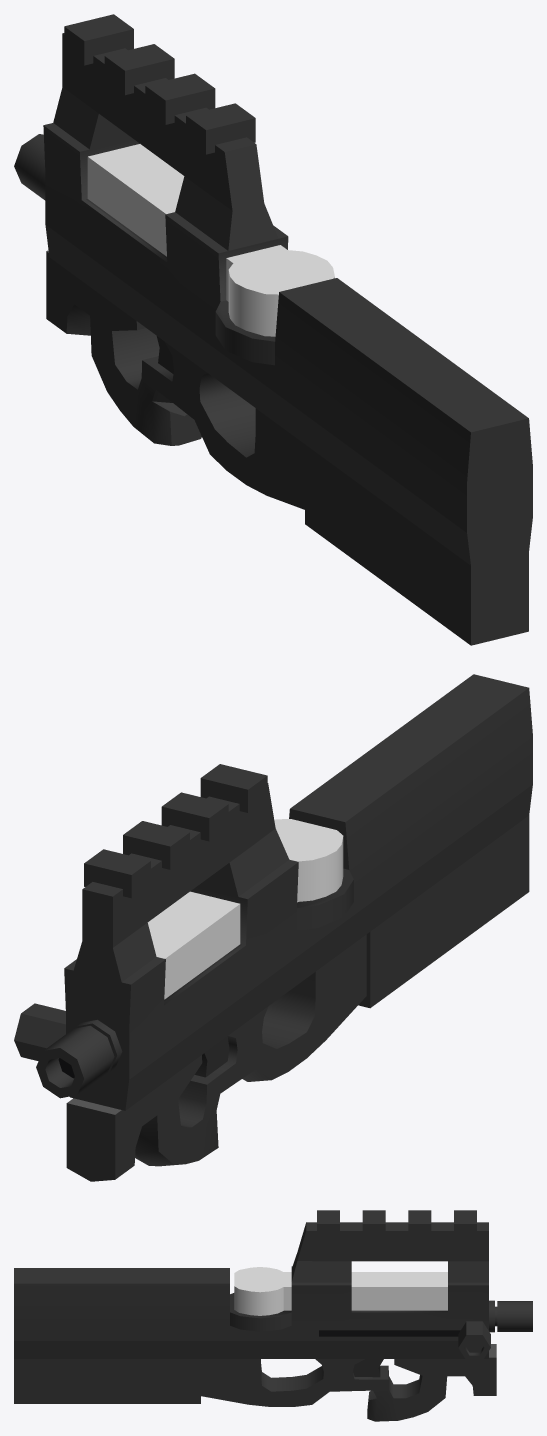
3 views of the same model, one above another, from view 1: azimuth 30°, elevation 25°; view 2: azimuth 150°, elevation 25°; view 3: azimuth 270°, elevation 25° (orthographic). The views are drawn at different scales.
Parts seen in each view (by area): view 1: M90, M90Magazine; view 2: M90, M90Magazine; view 3: M90, M90Magazine.
Boxes of the visible parts, x1,y1,x2,y2 form: M90: (14, 14, 532, 645); M90Magazine: (87, 144, 334, 336); M90: (14, 674, 532, 1181); M90Magazine: (147, 819, 343, 999); M90: (14, 1210, 532, 1421); M90Magazine: (234, 1267, 447, 1315).
Bounding box in the file's own units: 0.1156 × 0.2822 × 0.6564.
